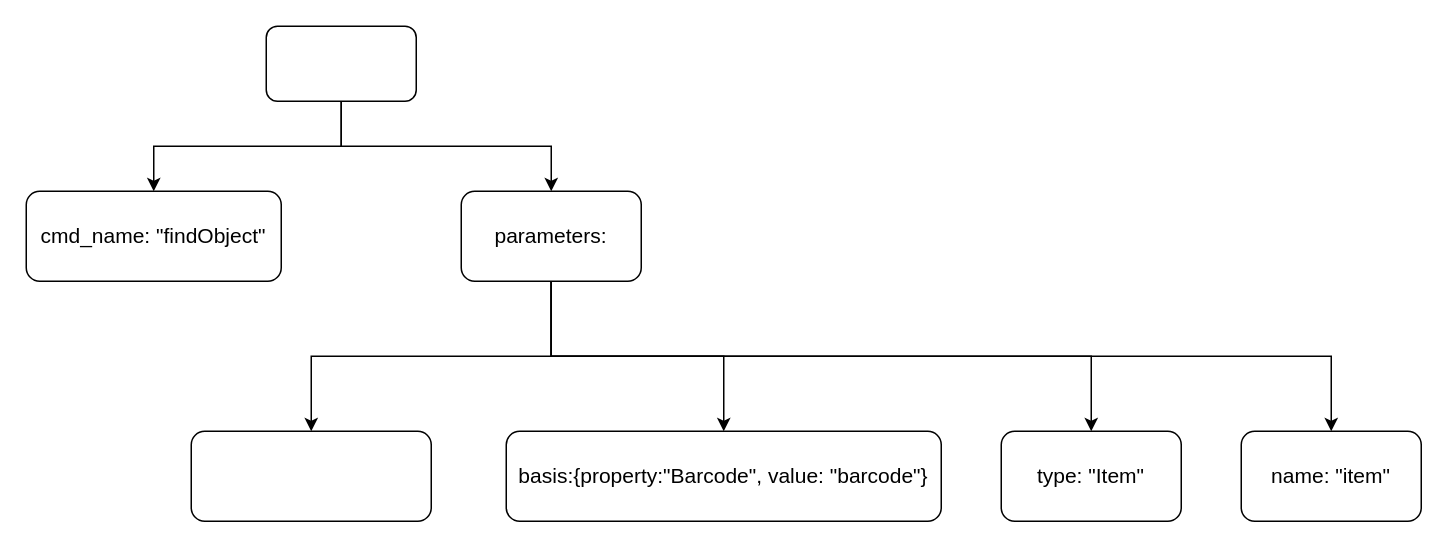
Image size: 1448x548. Some labels were removed from this diagram. Each missing label, with the centre of its shape:
command: (x=340, y=63)
set: "Item.allInstance": (x=310, y=475)
